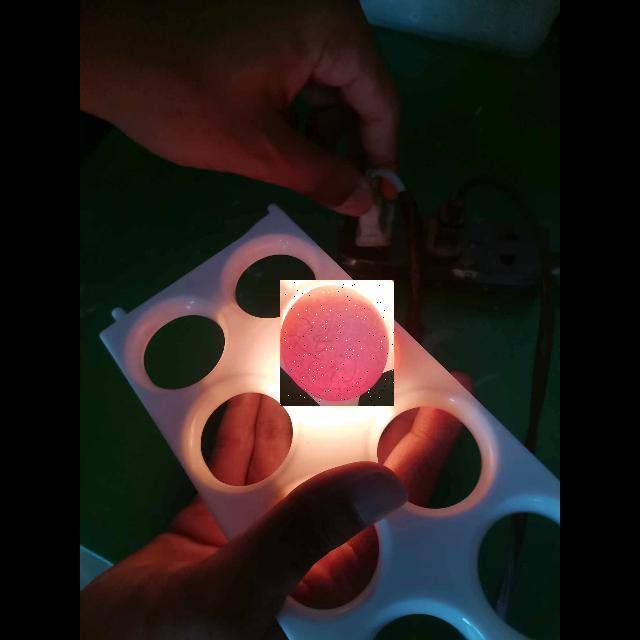Infertile: (280, 280, 394, 406)
